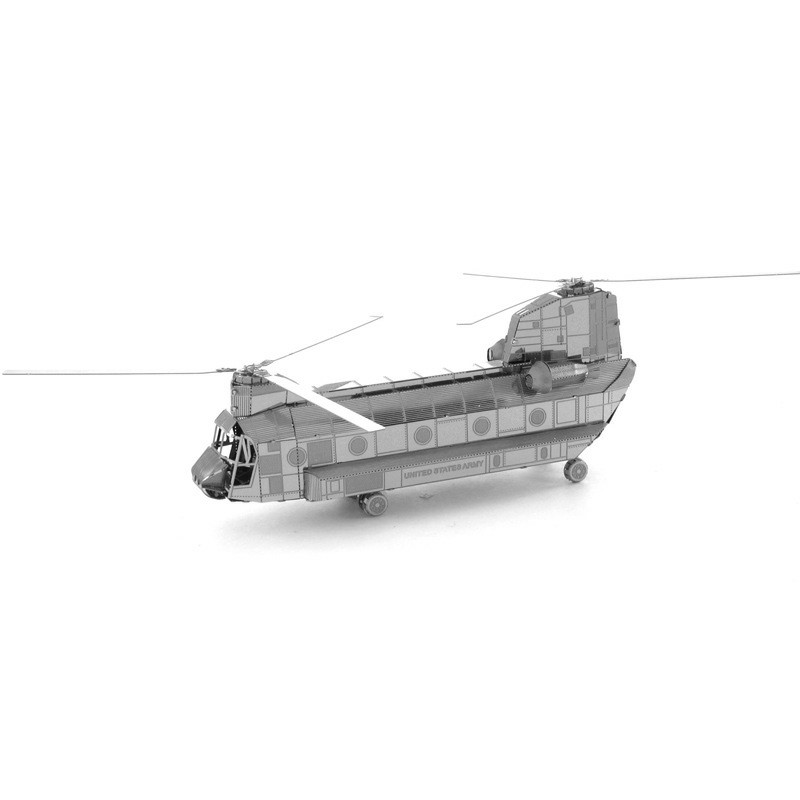chinook: (142, 270, 722, 517)
